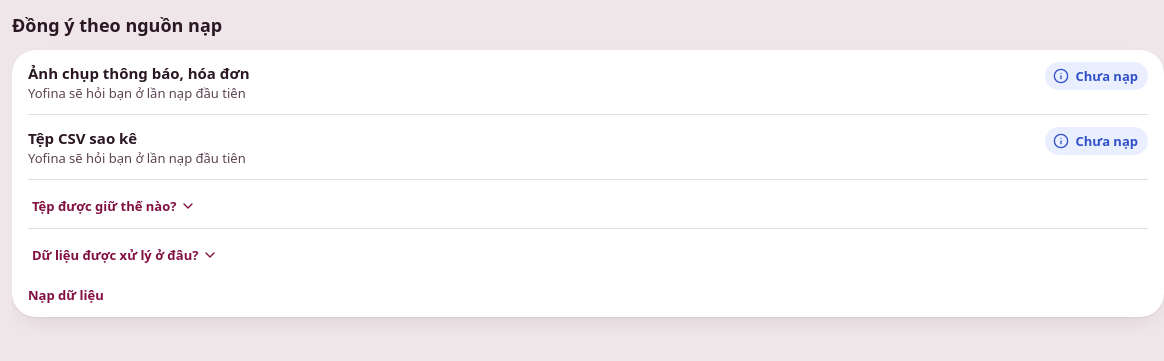
it: mở mục về nơi xử lý dữ liệu để xem thông tin Singapore, Bedrock và bản demo
Click the button "Dữ liệu được xử lý ở đâu?". click: (125, 255)
box: x1=28 y1=233 x2=222 y2=277
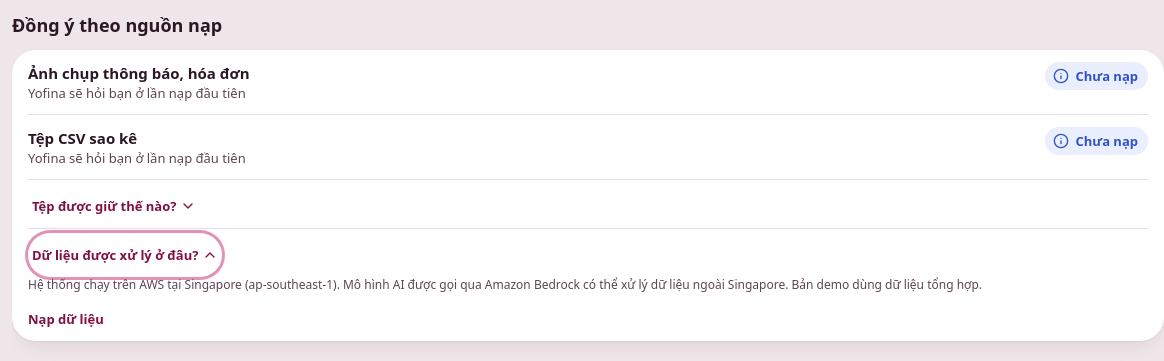
Expected: the button "Dữ liệu được xử lý ở đâu?" is expanded, x1=28 y1=233 x2=222 y2=277
Expected: the text "AWS tại Singapore (ap-southeast-1)" shows "Amazon Bedrock có thể xử lý dữ liệu ngoài Singapore", x1=28 y1=277 x2=982 y2=293
Expected: the text "AWS tại Singapore (ap-southeast-1)" shows "Bản demo dùng dữ liệu tổng hợp.", x1=28 y1=277 x2=982 y2=293
